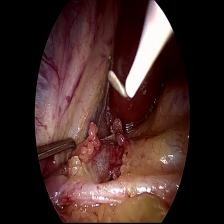Grasper: (37, 130, 82, 187)
Hook: (101, 1, 176, 116)
